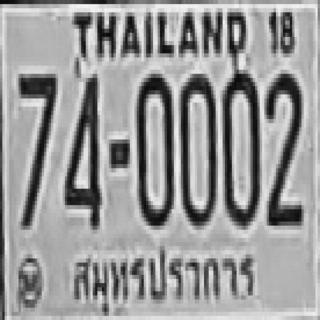N00: (137, 72, 174, 228), (223, 75, 260, 227), (180, 74, 217, 226)
N02: (266, 70, 303, 225)
N04: (64, 72, 101, 228)
N07: (16, 70, 56, 226)
P57: (68, 244, 258, 314)
